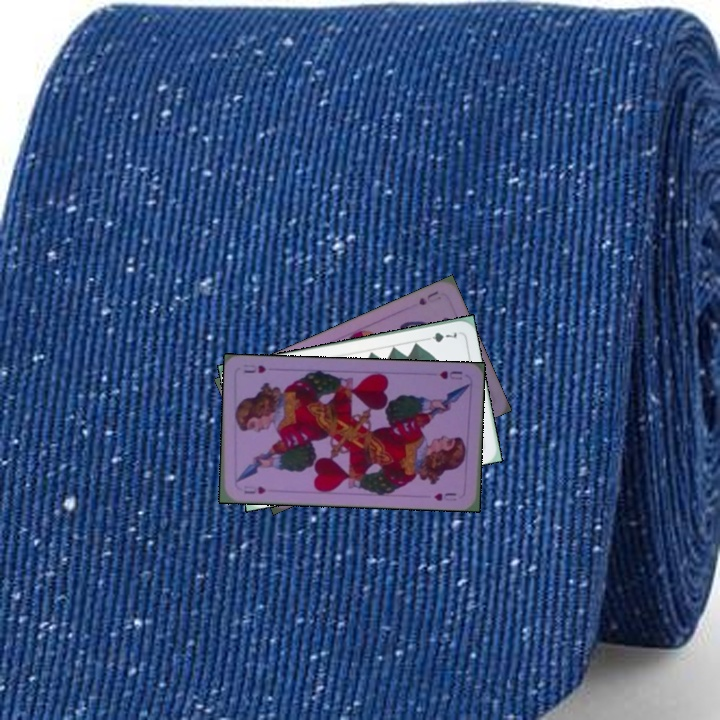G7: (420, 328, 461, 345)
HU: (240, 481, 268, 497), (436, 367, 464, 382)
SU: (414, 287, 444, 308)
